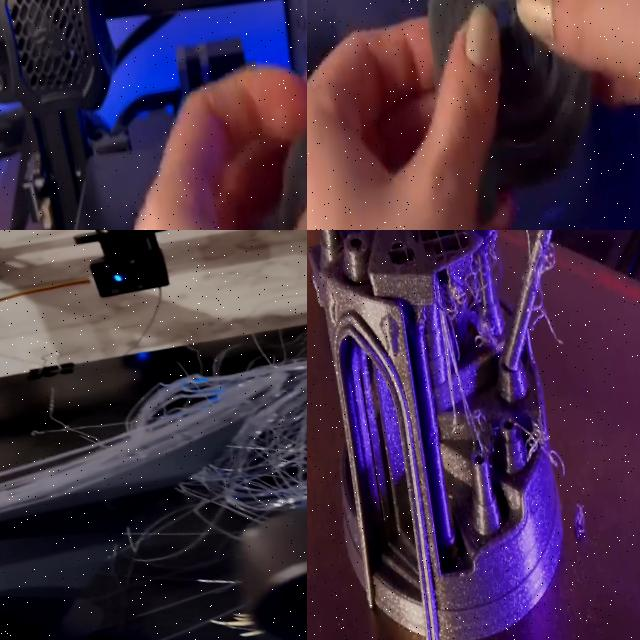spaghetti: (113, 327, 307, 535), (426, 241, 514, 365), (517, 238, 577, 354), (522, 410, 570, 480), (566, 500, 596, 544)
